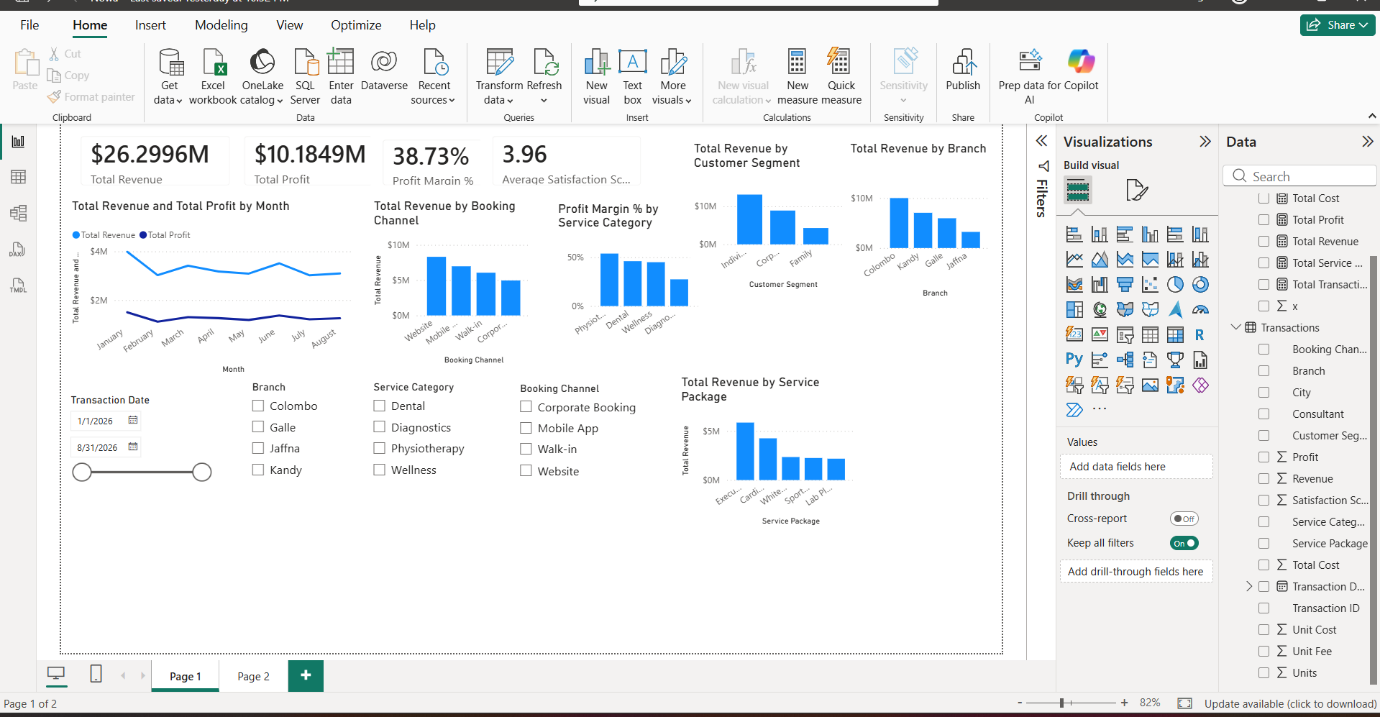

The page's visual inventory and layout, read from the dashboard file:
{"tool":"powerbi","page":{"name":"Page 1","canvas":[1280,720],"ordinal":0},"visuals":[{"type":"cardVisual","fields":{"Data":["Key Measures.Total Revenue"]},"box":[9.8,0,237.2,101.5],"z":0},{"type":"cardVisual","fields":{"Data":["Key Measures.Total Profit"]},"box":[232.3,0,212.8,101.5],"z":1000},{"type":"cardVisual","fields":{"Data":["Key Measures.Profit Margin %"]},"box":[420.7,4.9,177.3,96.6],"z":2000},{"type":"cardVisual","fields":{"Data":["Key Measures.Average Satisfaction Score"]},"box":[569.8,0,236,101.5],"z":3000},{"type":"lineChart","fields":{"Y":["Key Measures.Total Revenue","Key Measures.Total Profit"],"Category":["Transactions.Transaction Date.Variation.Date Hierarchy.Month"]},"box":[9.8,101.5,391.3,243.3],"z":4000},{"type":"clusteredColumnChart","fields":{"Category":["Transactions.Branch"],"Y":["Key Measures.Total Revenue"]},"box":[1068.8,23.2,200.5,217.7],"z":5000},{"type":"clusteredColumnChart","fields":{"Category":["Transactions.Service Category"],"Y":["Key Measures.Profit Margin %"]},"box":[671.3,105.2,200.5,196.9],"z":6000},{"type":"clusteredColumnChart","fields":{"Y":["Key Measures.Total Revenue"],"Category":["Transactions.Service Package"]},"box":[838.9,341.2,245.8,210.3],"z":7000},{"type":"clusteredColumnChart","fields":{"Category":["Transactions.Booking Channel"],"Y":["Key Measures.Total Revenue"]},"box":[420.7,101.5,223.8,231.1],"z":8000},{"type":"clusteredColumnChart","fields":{"Category":["Transactions.Customer Segment"],"Y":["Key Measures.Total Revenue"]},"box":[856,23.2,212.8,206.7],"z":9000},{"type":"slicer","fields":{"Values":["Transactions.Transaction Date"]},"box":[0,362,212.8,173.6],"z":10000},{"type":"slicer","fields":{"Values":["Transactions.Branch"]},"box":[247,344.8,154.1,206.7],"z":11000},{"type":"slicer","fields":{"Values":["Transactions.Service Category"]},"box":[412.1,344.8,157.7,154.1],"z":12000},{"type":"slicer","fields":{"Values":["Transactions.Booking Channel"]},"box":[611.4,346.1,183.4,152.9],"z":13000}]}

Visuals, with their boxes on the page's 1280x720 design canvas (x1, y1, x2, y2). These are canvas units, not pixel positions in the 1380x717 screenshot, which may show the page scaled, cropped or inside an application window:
cardVisual - Key Measures.Total Revenue: 10:0:247:102
cardVisual - Key Measures.Total Profit: 232:0:445:102
cardVisual - Key Measures.Profit Margin %: 421:5:598:102
cardVisual - Key Measures.Average Satisfaction Score: 570:0:806:102
lineChart - Key Measures.Total Revenue x Key Measures.Total Profit: 10:102:401:345
clusteredColumnChart - Transactions.Branch x Key Measures.Total Revenue: 1069:23:1269:241
clusteredColumnChart - Transactions.Service Category x Key Measures.Profit Margin %: 671:105:872:302
clusteredColumnChart - Key Measures.Total Revenue x Transactions.Service Package: 839:341:1085:552
clusteredColumnChart - Transactions.Booking Channel x Key Measures.Total Revenue: 421:102:644:333
clusteredColumnChart - Transactions.Customer Segment x Key Measures.Total Revenue: 856:23:1069:230
slicer - Transactions.Transaction Date: 0:362:213:536
slicer - Transactions.Branch: 247:345:401:552
slicer - Transactions.Service Category: 412:345:570:499
slicer - Transactions.Booking Channel: 611:346:795:499
